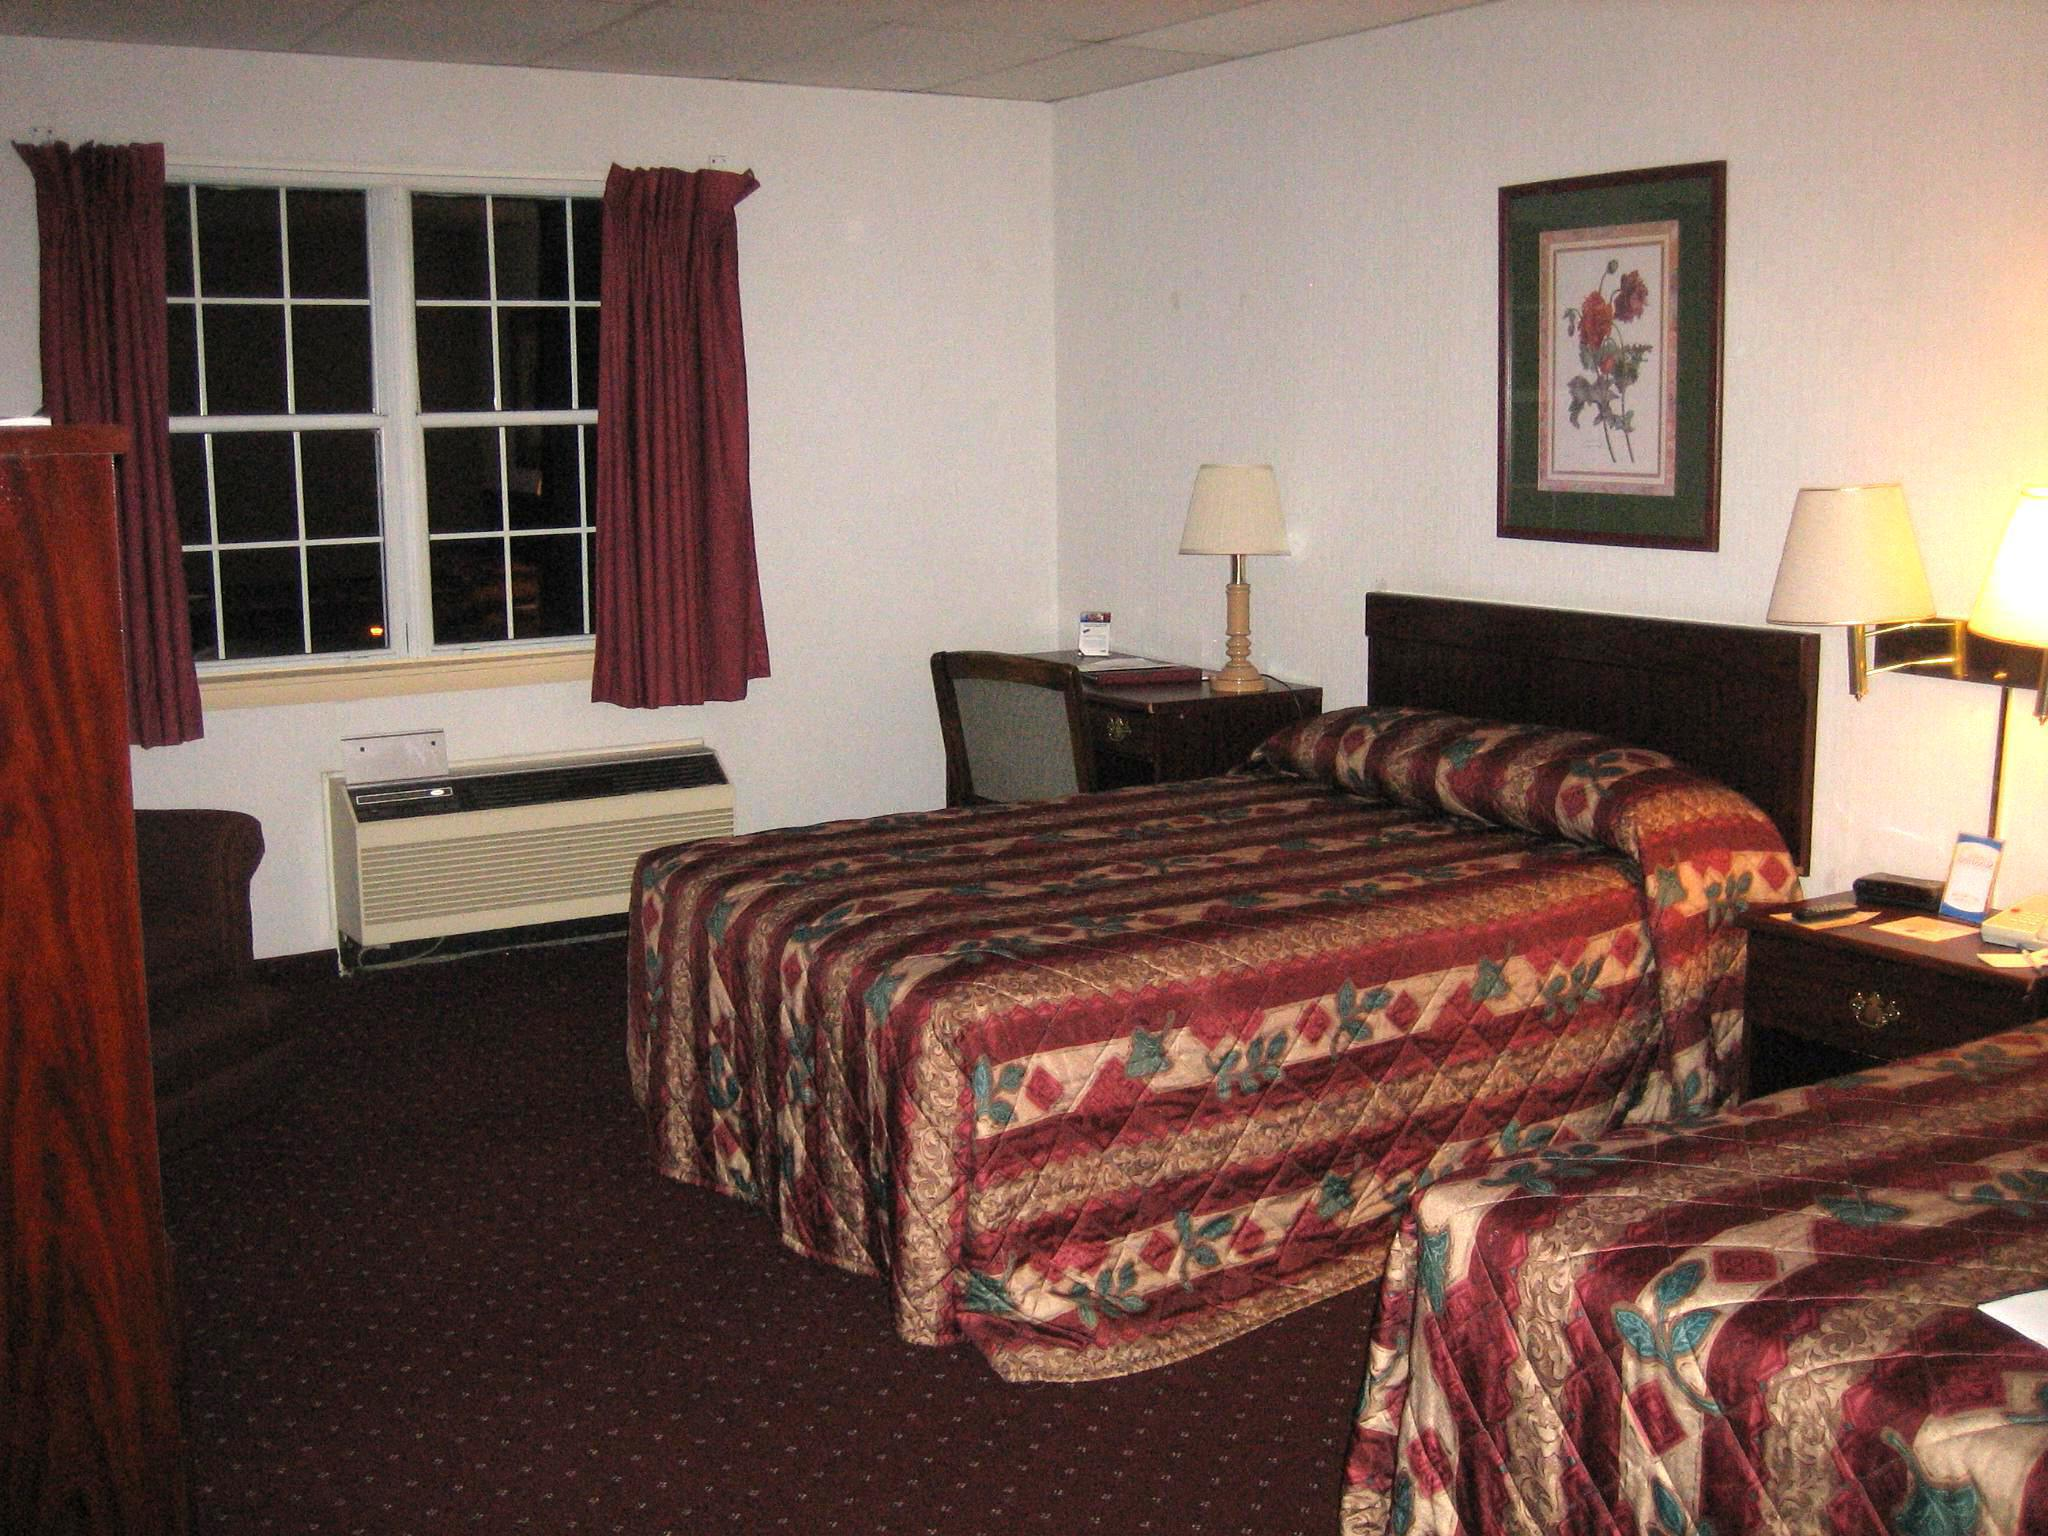Otro Obstaculo: (316, 728, 731, 955)
